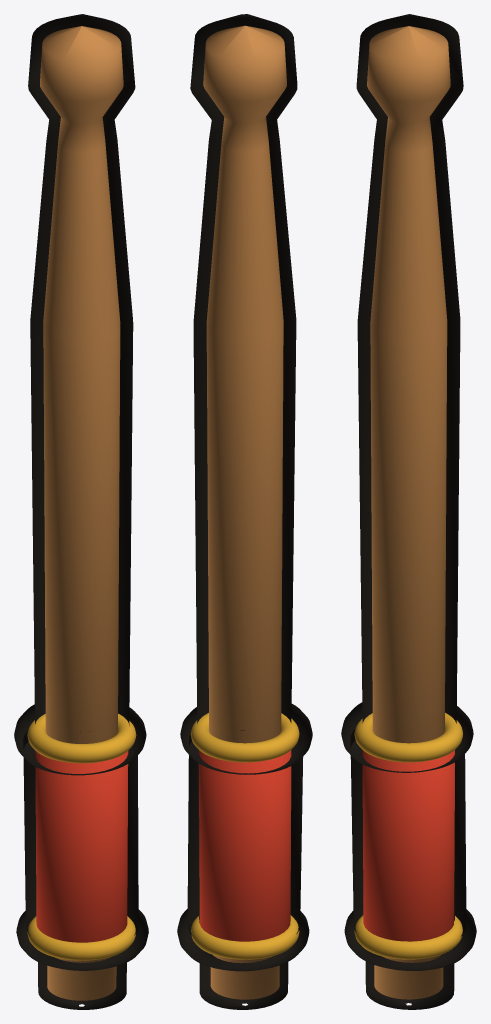
File: drumstick.glb
The picture shows the model from 3 angles, left to right: view 1: azimuth 30°, elevation 25°; view 2: azimuth 150°, elevation 25°; view 3: azimuth 330°, elevation 25°; orthographic projection.
Visible parts, largest first — view 1: Drumstick, Drumstick_outline; view 2: Drumstick, Drumstick_outline; view 3: Drumstick, Drumstick_outline.
Boxes of the visible parts, <box> form: Drumstick: <box>27,26,136,1000</box>; Drumstick_outline: <box>14,14,148,1009</box>; Drumstick: <box>190,25,299,999</box>; Drumstick_outline: <box>177,14,312,1009</box>; Drumstick: <box>354,26,462,999</box>; Drumstick_outline: <box>341,14,476,1009</box>.
Size of the model in its own units: 0.2745 by 2.21 by 0.2683.
